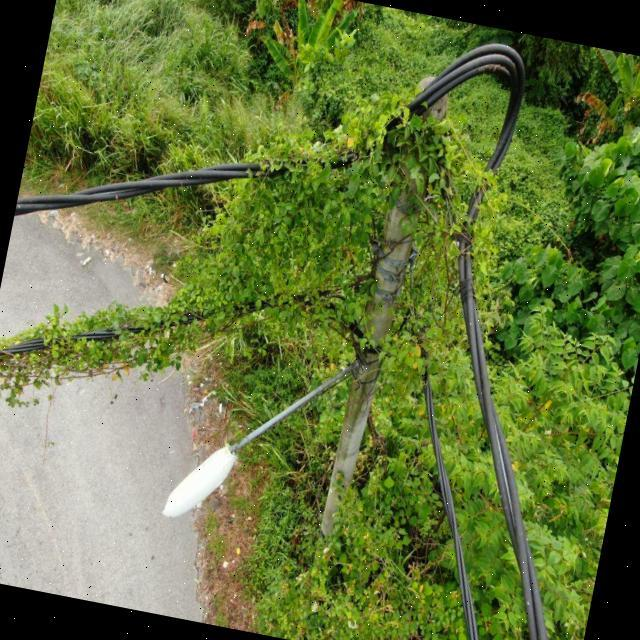critical vegetation: (0, 0, 527, 511)
